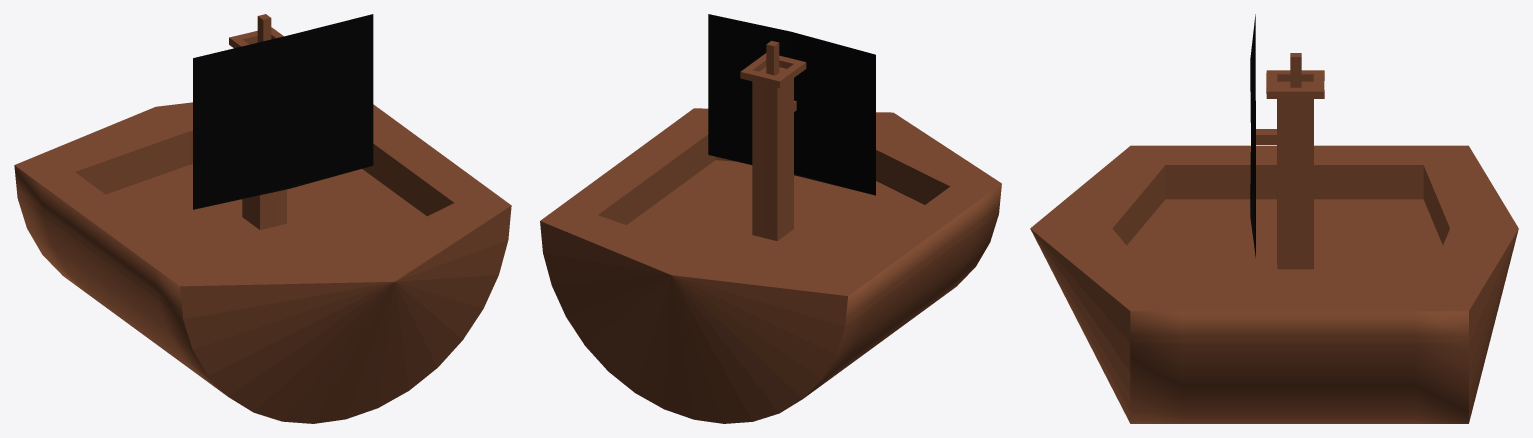
The model's file is Warship.dae.
The picture shows the model from 3 angles, left to right: view 1: azimuth 30°, elevation 25°; view 2: azimuth 150°, elevation 25°; view 3: azimuth 270°, elevation 25°; orthographic projection. The views are drawn at different scales.
Parts seen in each view (by area): view 1: Cylinder; view 2: Cylinder; view 3: Cylinder.
Boxes of the visible parts, x1,y1,x2,y2 form: Cylinder: (14, 14, 511, 423); Cylinder: (540, 14, 1001, 423); Cylinder: (1030, 14, 1518, 423).
Size of the model in its own units: 2 by 2.5 by 1.98.
